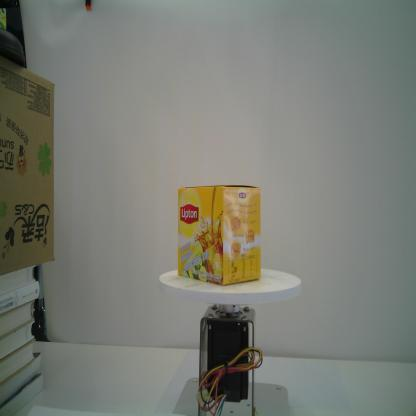Instant Drink: (176, 182, 263, 288)
